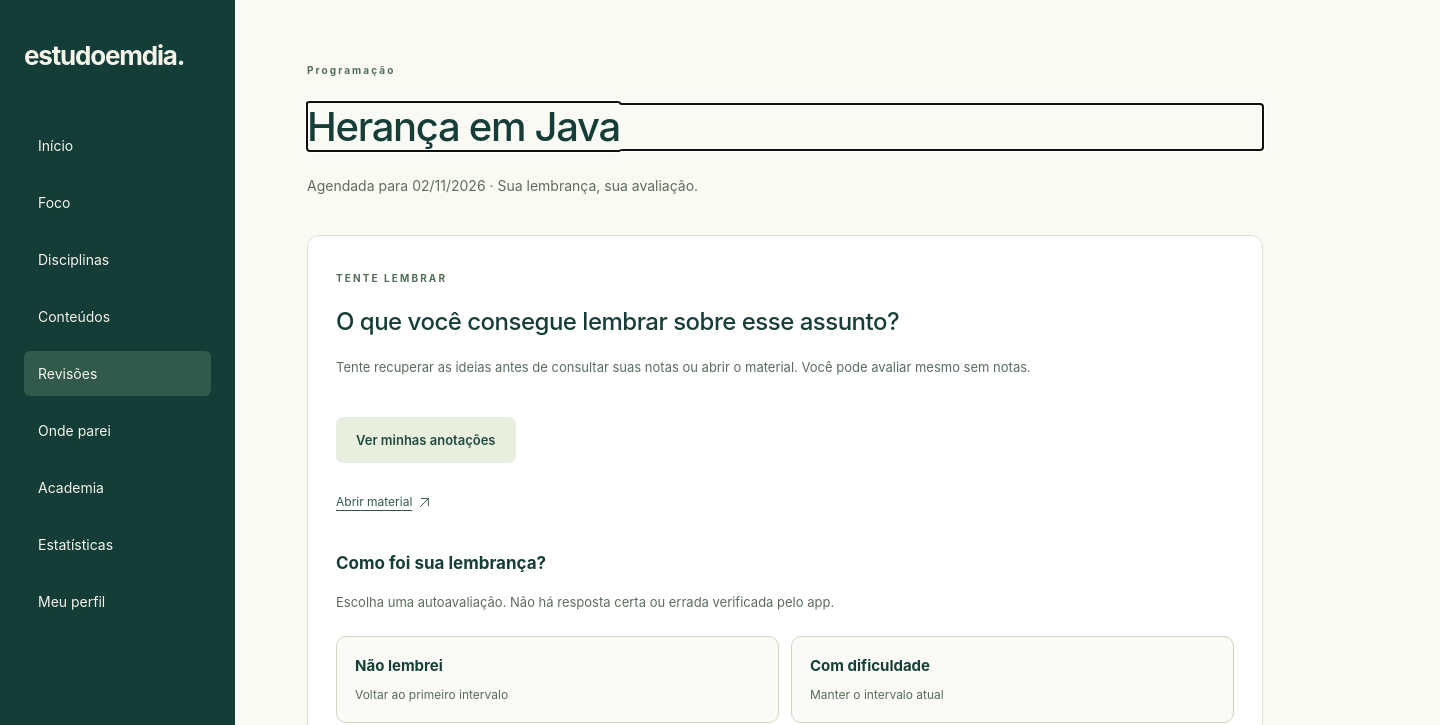
Test: revisão por autoavaliação › permite classificar sem notas e informa limite diário sem apagar sucesso
Click the button "Não lembrei Voltar ao primeiro intervalo". click: (399, 666)
box: [336,636,779,723]
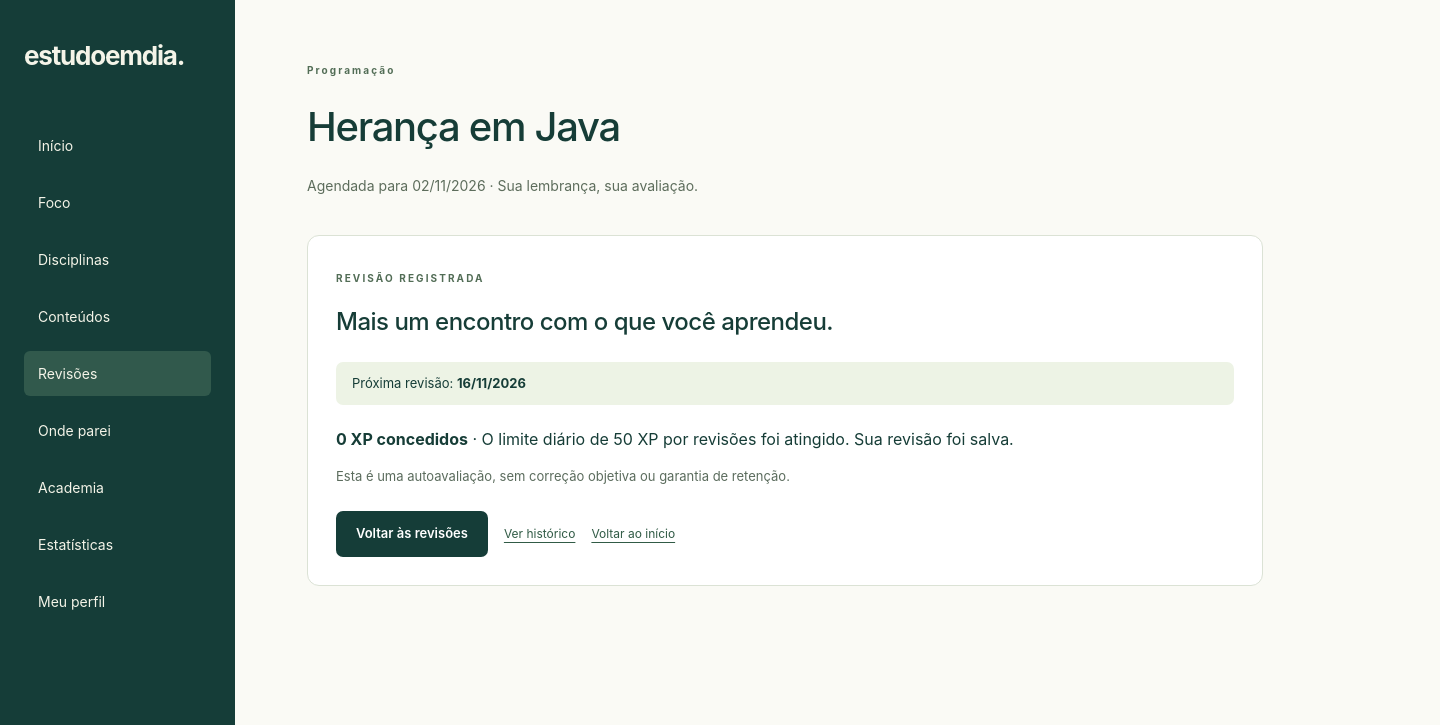
expect the text "0 XP concedidos" is shown: met, box [336,429,468,449]
expect the text "Sua revisão foi salva" is shown: met, box [468,429,1014,449]
